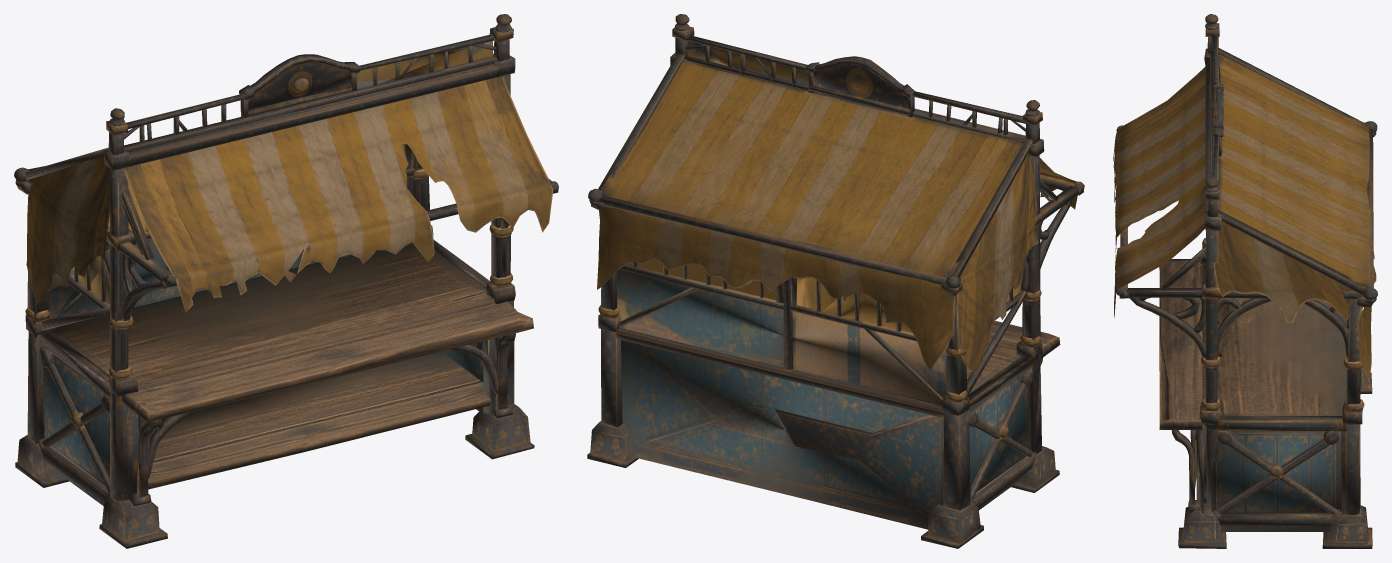
The model's file is MarketStall.glb.
3 views of the same model, side by side, from view 1: azimuth 30°, elevation 25°; view 2: azimuth 150°, elevation 25°; view 3: azimuth 270°, elevation 25° (orthographic). The views are drawn at different scales.
Size of the model in its own units: 1 by 1 by 0.6501.
1 material, 1 textured.
